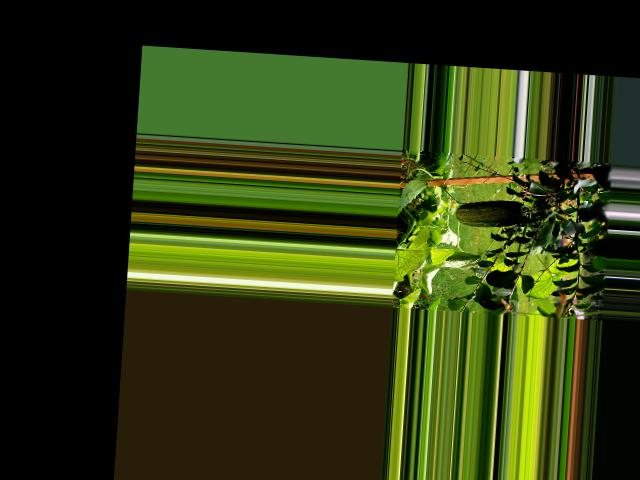cucumber: (454, 196, 532, 229)
